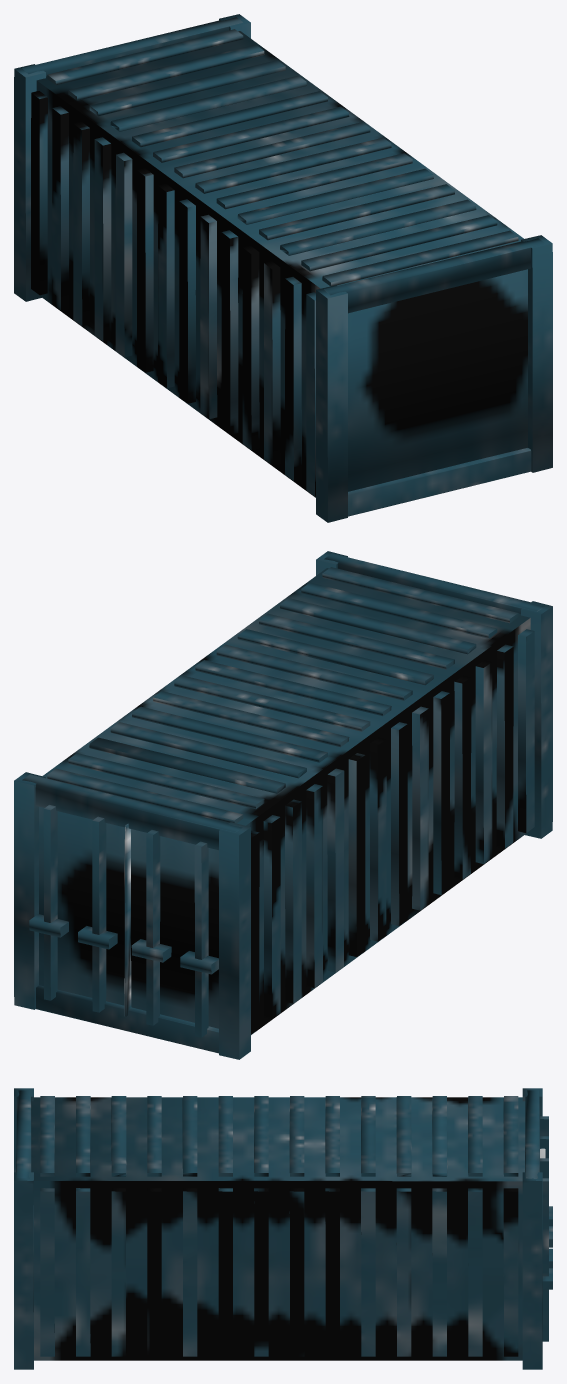
File: Contenedor_Azul.fbx
The picture shows the model from 3 angles, top to bottom: view 1: azimuth 30°, elevation 25°; view 2: azimuth 150°, elevation 25°; view 3: azimuth 270°, elevation 25°; orthographic projection. The views are drawn at different scales.
Visible parts, largest first — view 1: Contenedor_Azul; view 2: Contenedor_Azul; view 3: Contenedor_Azul.
Boxes of the visible parts, x1,y1,x2,y2 form: Contenedor_Azul: (14,14,552,522); Contenedor_Azul: (14,551,552,1059); Contenedor_Azul: (14,1088,552,1369).
Bounding box in the file's own units: 4.18 × 4 × 10.28.
